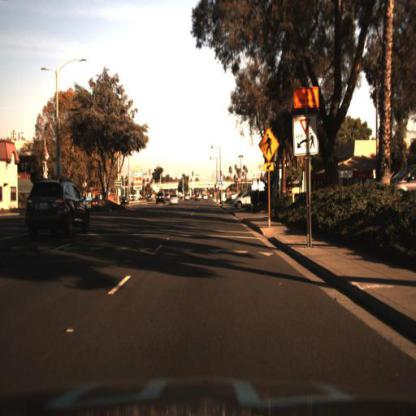car: (22, 176, 92, 238), (169, 191, 180, 207), (169, 191, 180, 206), (154, 191, 166, 204), (155, 190, 166, 204), (119, 196, 129, 208)
